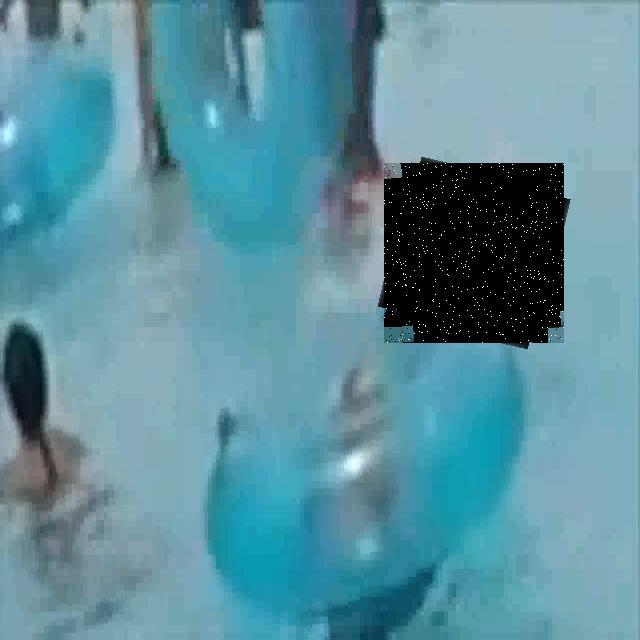Out of Water: (384, 163, 564, 343)
